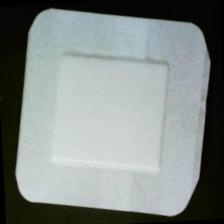Dressing: (7, 1, 221, 224)
